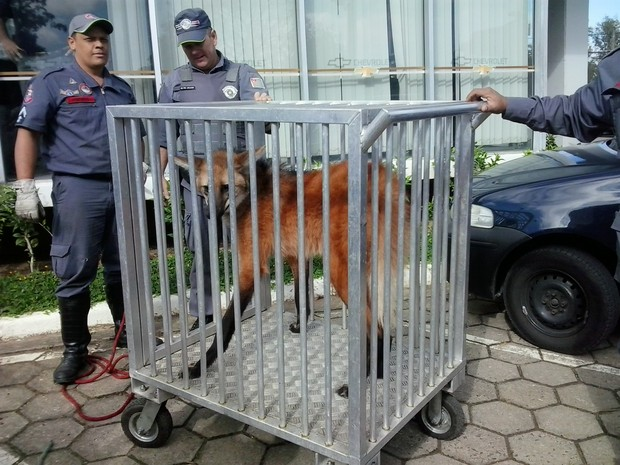LoboGuara: (161, 145, 409, 405)
